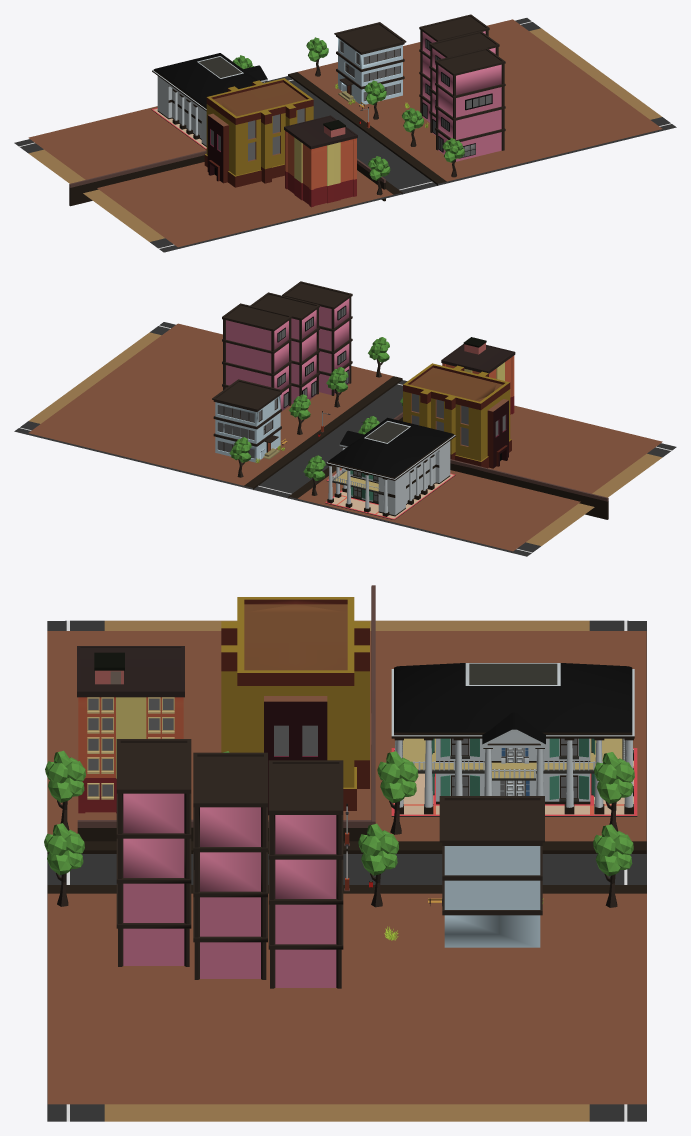
File: Runner_Assignment_Chunk_01.FBX
The picture shows the model from 3 angles, top to bottom: view 1: azimuth 30°, elevation 25°; view 2: azimuth 150°, elevation 25°; view 3: azimuth 270°, elevation 25°; orthographic projection. The views are drawn at different scales.
Parts seen in each view (by area): view 1: FootPath_Full, Buildings_New_09, Buildings_18, Chunk_1, Buildings_New_00, Buildings_42, Buildings_New_08, Wall__4_, Tree_03__3_, Tree_03__2_, Tree_03__4_, Tree_03 (+1 smaller); view 2: FootPath_Full, Buildings_New_09, Buildings_42, Chunk_1, Buildings_18, Buildings_New_08, Buildings_New_00, Wall__4_, Tree_03__3_, Tree_03, Tree_03__1_, Tree_03__7_ (+1 smaller); view 3: FootPath_Full, Buildings_New_09, Buildings_42, Buildings_18, Chunk_1, Buildings_New_08, Buildings_New_00, Tree_03__6_, Tree_03__1_, Tree_03__3_, Tree_03, Tree_03__4_ (+3 smaller).
Boxes of the visible parts, x1,y1,x2,y2 form: FootPath_Full: (28, 19, 662, 247); Buildings_New_09: (419, 14, 505, 162); Buildings_18: (204, 78, 313, 187); Chunk_1: (14, 18, 676, 252); Buildings_New_00: (284, 115, 357, 207); Buildings_42: (151, 53, 267, 149); Buildings_New_08: (334, 22, 406, 105); Wall__4_: (69, 150, 206, 206); Tree_03__3_: (442, 138, 464, 177); Tree_03__2_: (402, 107, 424, 146); Tree_03__4_: (368, 156, 390, 195); Tree_03: (306, 37, 328, 76); FootPath_Full: (28, 323, 662, 551); Buildings_New_09: (222, 281, 352, 410); Buildings_42: (325, 417, 455, 519); Chunk_1: (14, 322, 676, 556); Buildings_18: (403, 363, 511, 468); Buildings_New_08: (212, 379, 283, 462); Buildings_New_00: (441, 337, 515, 414); Wall__4_: (450, 459, 608, 519); Tree_03__3_: (368, 337, 389, 377); Tree_03: (229, 437, 251, 477); Tree_03__1_: (289, 394, 310, 434); Tree_03__7_: (303, 455, 325, 495); FootPath_Full: (47, 631, 646, 1104); Buildings_New_09: (116, 739, 343, 988); Buildings_42: (391, 663, 637, 816); Buildings_18: (221, 597, 369, 815); Chunk_1: (47, 620, 646, 1121); Buildings_New_08: (439, 796, 544, 947); Buildings_New_00: (77, 646, 184, 813); Tree_03__6_: (377, 751, 418, 834); Tree_03__1_: (358, 823, 398, 907); Tree_03__3_: (44, 823, 84, 906); Tree_03: (593, 824, 633, 907); Tree_03__4_: (45, 750, 85, 830).
Bounding box in the file's own units: 11335 × 2081 × 5631.
1 material, 1 textured.
